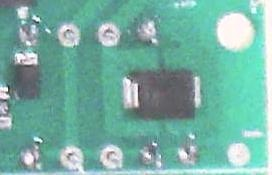chip-resistor: (0, 93, 11, 125)
diode: (120, 70, 201, 119), (14, 53, 38, 100)
